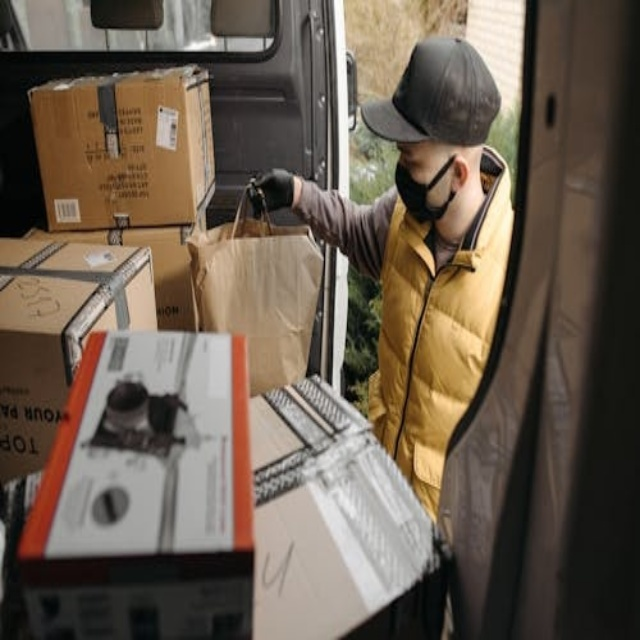Gafas: (103, 379, 187, 439)
Guantes: (250, 167, 296, 213)
Mascara: (394, 153, 458, 223)
